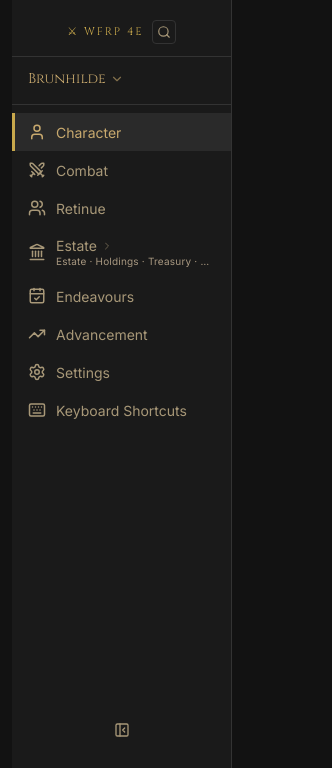
Test: Navigation delete confirmation › shows delete button for all characters when multiple characters exist
This screenshot has width=332, height=768.
Click the button titled "Switch character" at (76, 78), box [28,69,124,88]
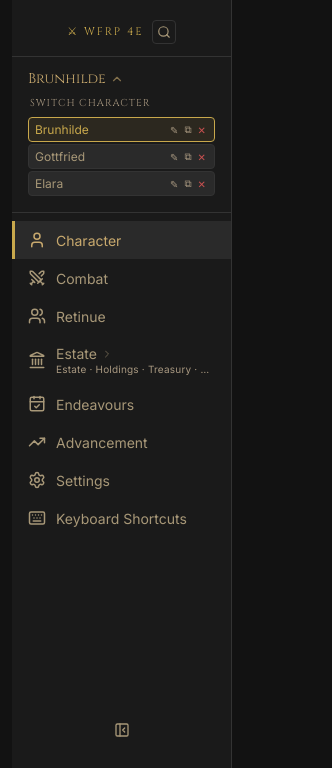
Expected: the number of buttons titled "Delete" is 3, [196,124,208,136]; [196,150,208,162]; [196,178,208,190]
